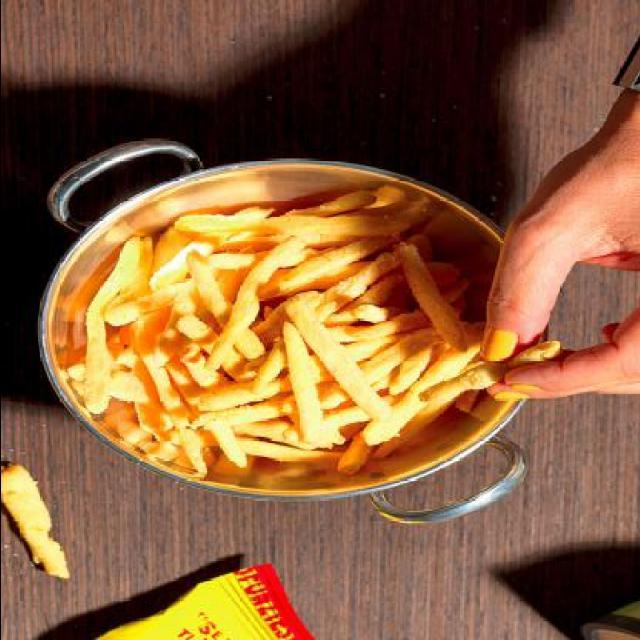Chips packaged: (75, 200, 453, 454)
